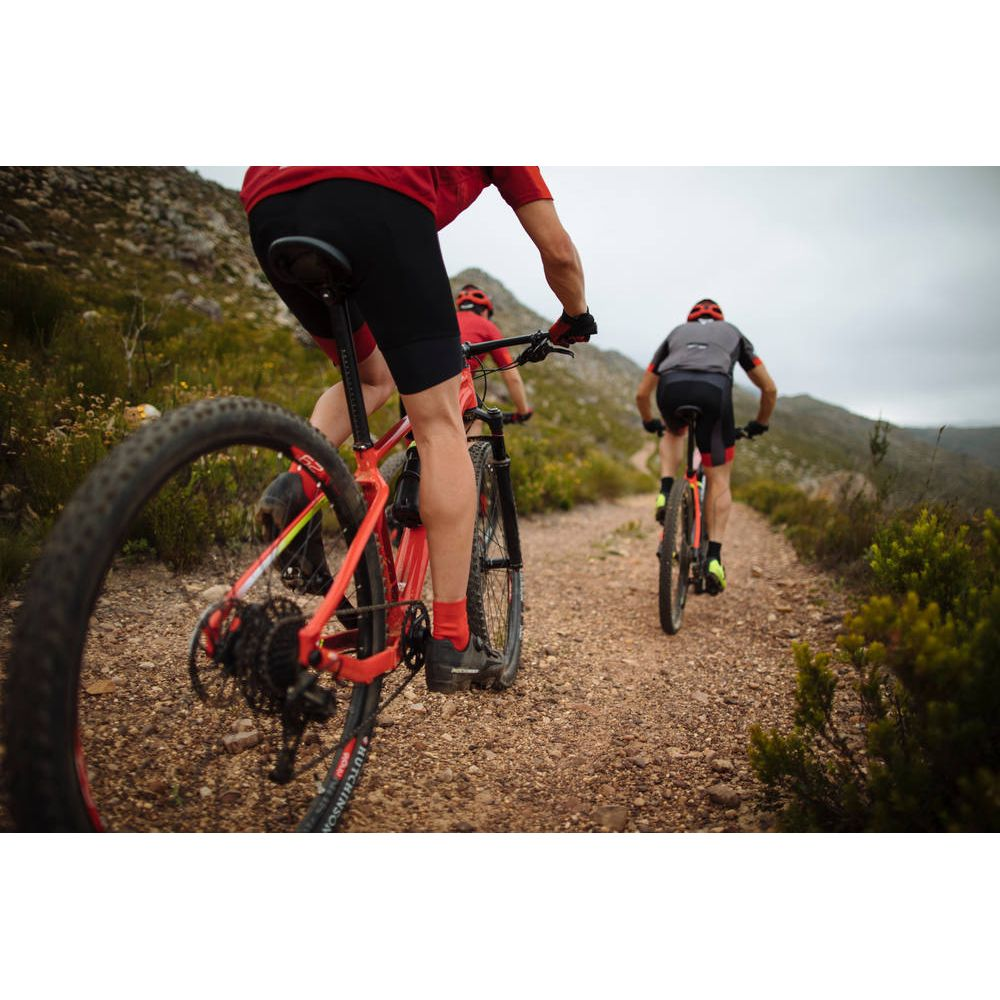RoadBike: (622, 511, 779, 797), (356, 492, 439, 630), (464, 505, 548, 630), (562, 495, 613, 626)
